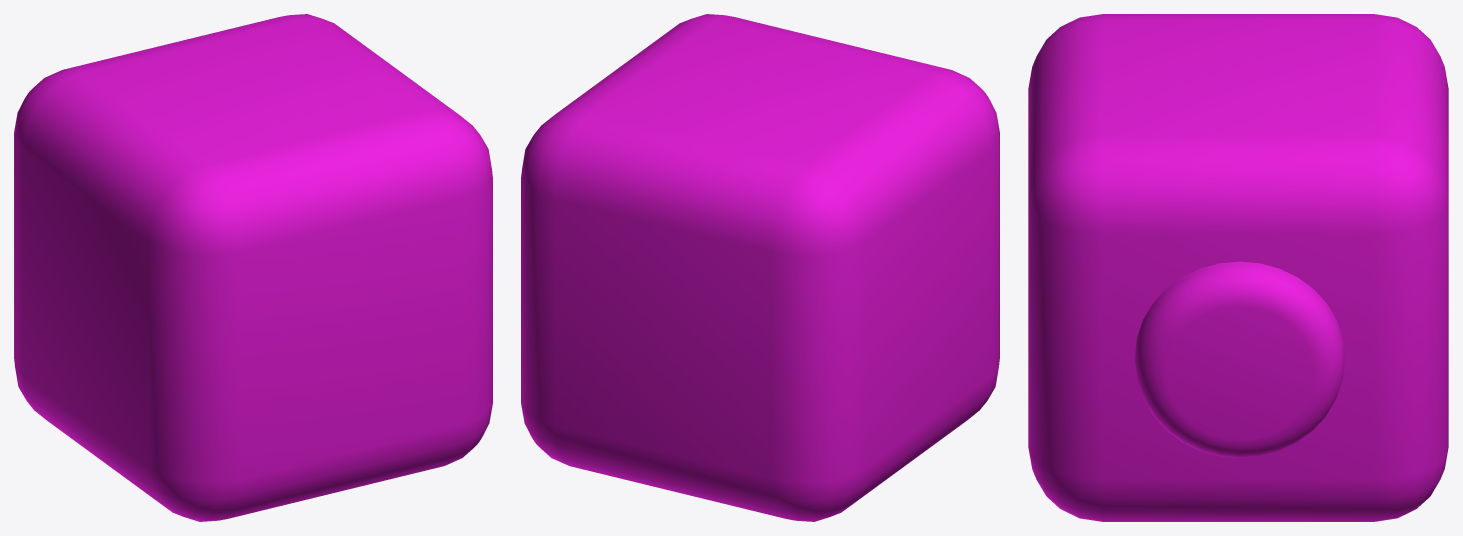
3 renders of one model, left to right at view 1: azimuth 30°, elevation 25°; view 2: azimuth 150°, elevation 25°; view 3: azimuth 270°, elevation 25°, orthographic. The views are drawn at different scales.
Parts seen in each view (by area): view 1: Cube; view 2: Cube; view 3: Cube.
Boxes of the visible parts, x1,y1,x2,y2 form: Cube: (14,14,492,521); Cube: (521,14,999,521); Cube: (1028,14,1448,521).
Size of the model in its own units: 109 by 100 by 100.
